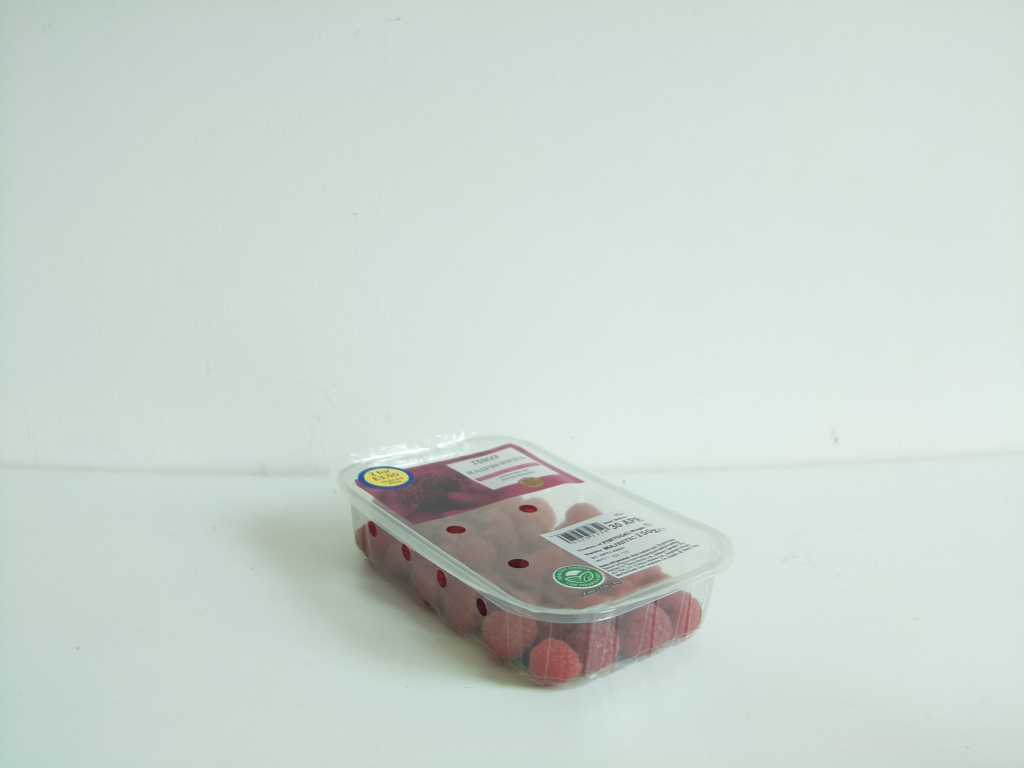soft-fruit: (333, 433, 733, 694)
